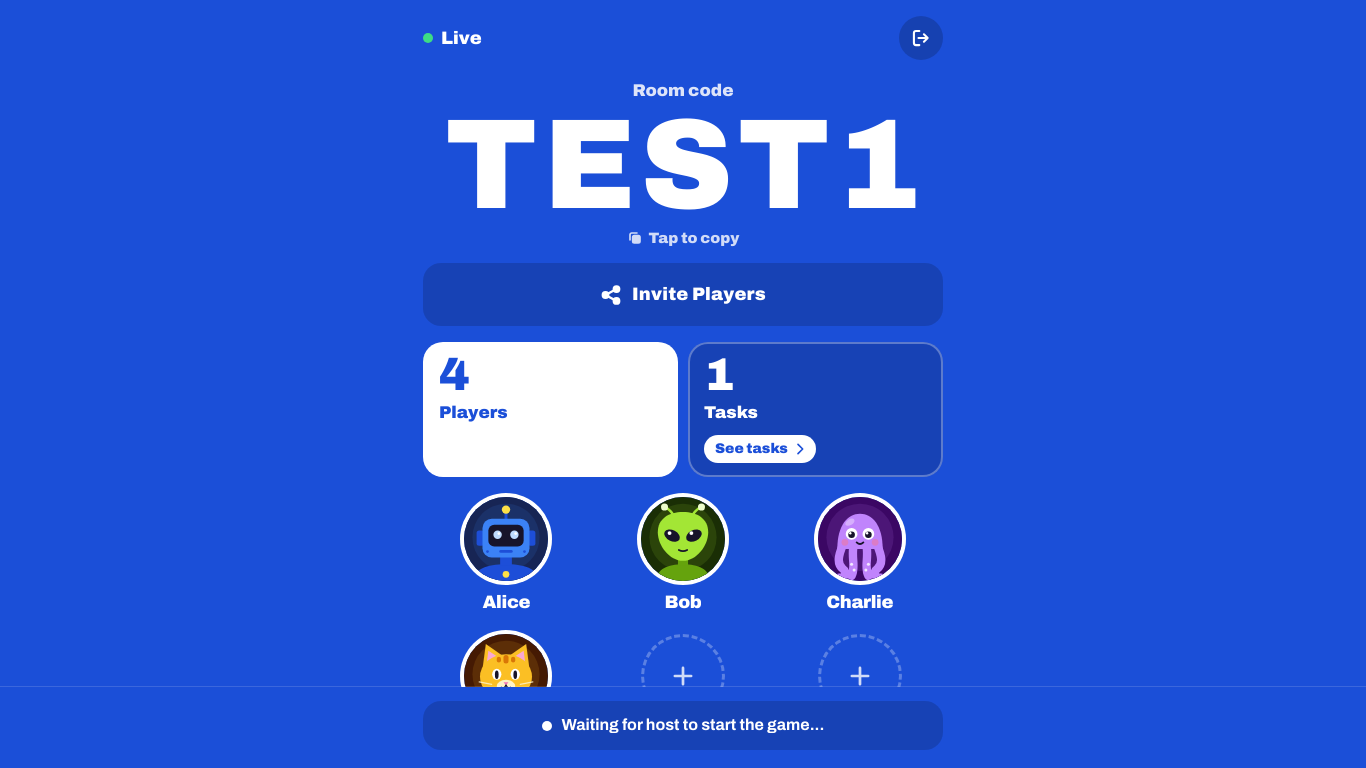
it: PreGamePage › Task Creation (Host) › shows an existing Other task to a player without edit permission
Step 1. Click the button "Tasks 1 See tasks" → (816, 410), box top-left (688, 342), bottom-right (943, 477)
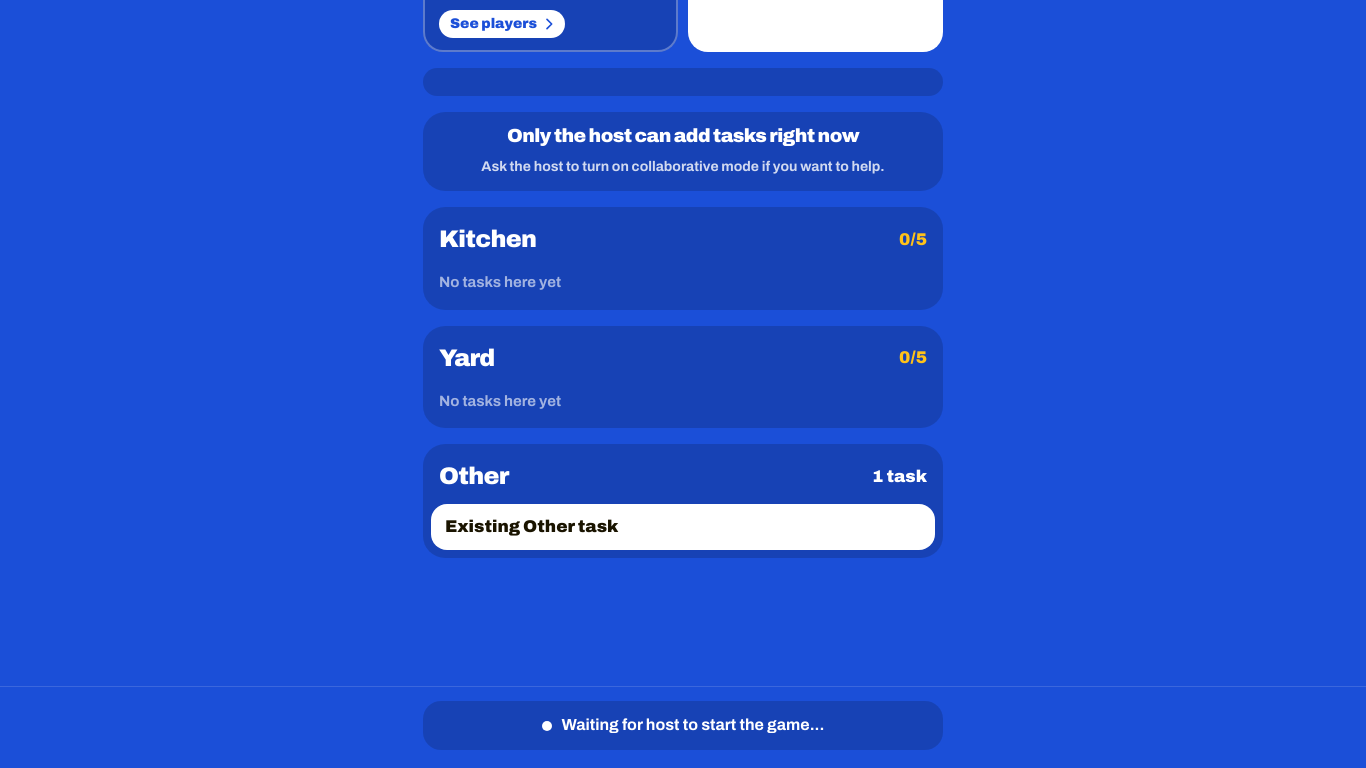
Expected: the text "Existing Other task" is shown, top-left (445, 517), bottom-right (618, 536)
